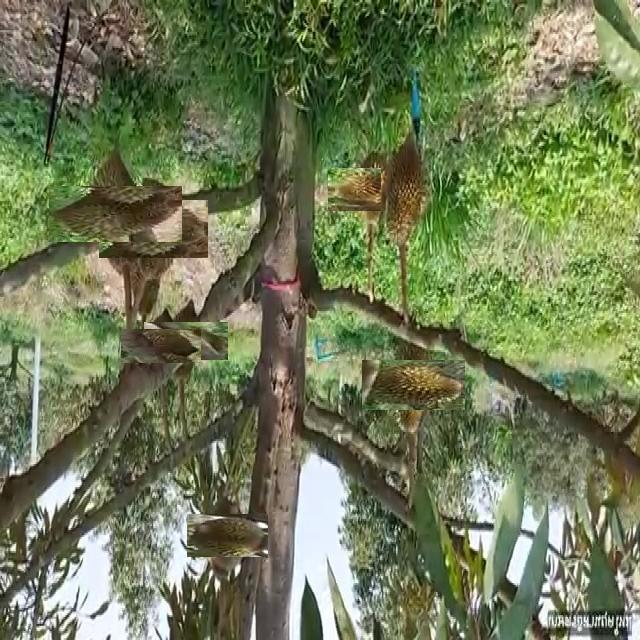durian: (68, 166, 163, 261), (111, 187, 196, 271), (381, 126, 430, 250), (375, 346, 452, 424), (338, 158, 402, 221), (196, 504, 259, 566), (155, 310, 217, 371), (133, 318, 190, 374)
